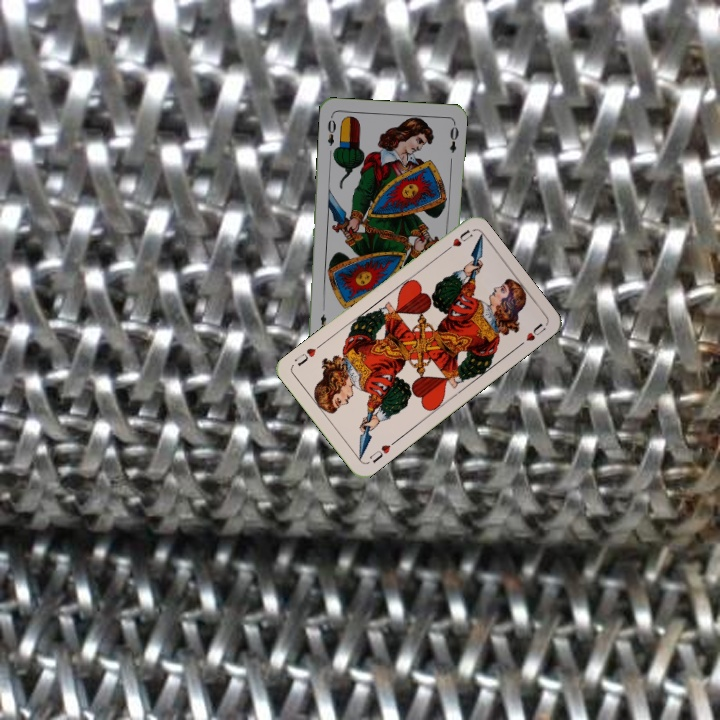EO: (323, 112, 338, 148)
HU: (439, 226, 475, 255), (365, 437, 398, 466)
